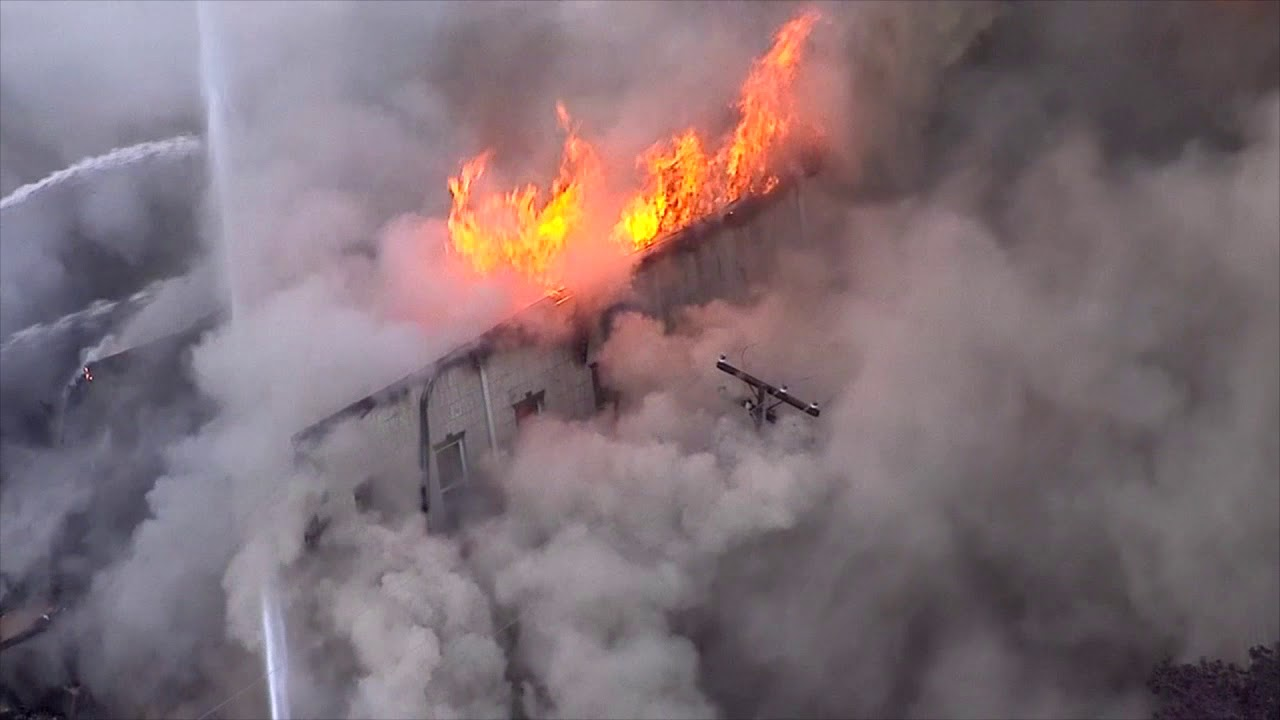fire: (450, 139, 680, 290), (697, 39, 816, 205)
smoke: (14, 305, 846, 705), (852, 103, 1276, 663), (18, 14, 440, 299), (454, 3, 686, 129)
